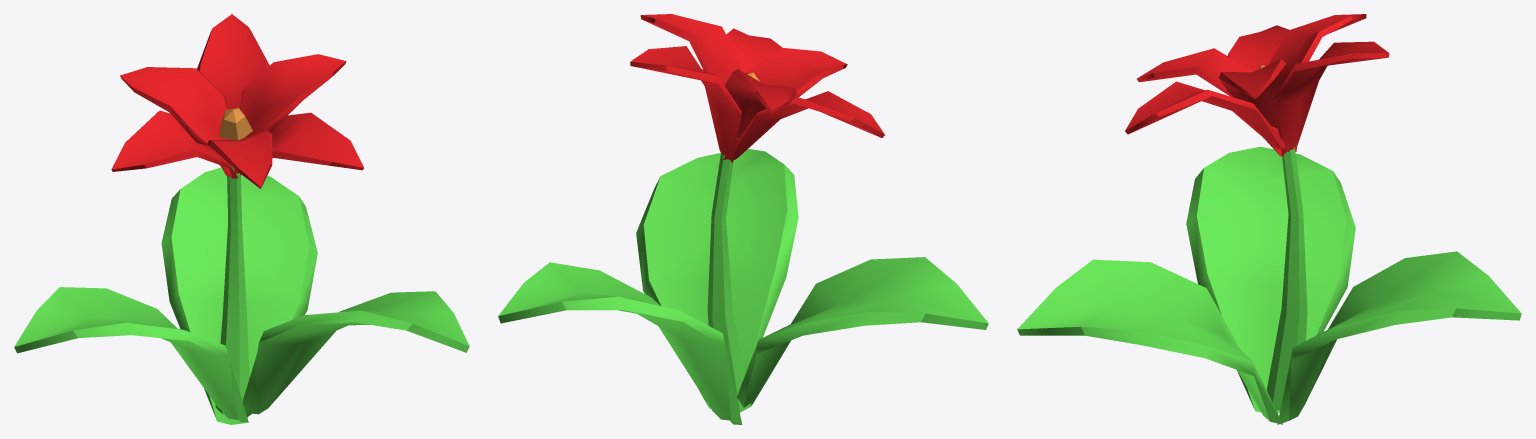
File: flower.fbx
3 views of the same model, side by side, from view 1: azimuth 30°, elevation 25°; view 2: azimuth 150°, elevation 25°; view 3: azimuth 270°, elevation 25° (orthographic). The views are drawn at different scales.
Parts seen in each view (by area): view 1: pCube5.002, pCube7.001, pCube6.002, pCube8, pCube6.003, pCylinder1, pCube8.001, pCube9.001, pCube6.004, pCube9, pSphere1; view 2: pCube6.002, pCube7.001, pCube5.002, pCylinder1, pCube8.001, pCube6.003, pCube9.001, pCube9, pCube8, pCube6.004; view 3: pCube7.001, pCube6.002, pCube5.002, pCylinder1, pCube8.001, pCube6.004, pCube6.003, pCube9, pCube8, pCube9.001.
Part boxes in pixels (bbox=[...]): pCube5.002: bbox=[161, 167, 317, 424]; pCube7.001: bbox=[14, 287, 248, 422]; pCube6.002: bbox=[242, 291, 469, 416]; pCube8: bbox=[120, 67, 229, 145]; pCube6.003: bbox=[240, 54, 346, 137]; pCylinder1: bbox=[215, 165, 249, 414]; pCube8.001: bbox=[197, 14, 269, 175]; pCube9.001: bbox=[111, 110, 238, 178]; pCube6.004: bbox=[234, 112, 363, 173]; pCube9: bbox=[206, 129, 272, 188]; pSphere1: bbox=[219, 108, 252, 140]; pCube6.002: bbox=[636, 148, 798, 408]; pCube7.001: bbox=[736, 257, 988, 407]; pCube5.002: bbox=[498, 262, 742, 424]; pCylinder1: bbox=[707, 152, 751, 412]; pCube8.001: bbox=[630, 46, 741, 162]; pCube6.003: bbox=[640, 14, 741, 85]; pCube9.001: bbox=[723, 91, 884, 159]; pCube9: bbox=[737, 47, 847, 139]; pCube8: bbox=[725, 69, 796, 137]; pCube6.004: bbox=[719, 28, 782, 148]; pCube7.001: bbox=[1186, 146, 1355, 413]; pCube6.002: bbox=[1017, 259, 1282, 424]; pCube5.002: bbox=[1277, 251, 1521, 424]; pCylinder1: bbox=[1267, 147, 1307, 410]; pCube8.001: bbox=[1274, 41, 1389, 156]; pCube6.004: bbox=[1125, 81, 1288, 148]; pCube6.003: bbox=[1218, 59, 1291, 128]; pCube9: bbox=[1137, 48, 1279, 133]; pCube8: bbox=[1268, 14, 1366, 133]; pCube9.001: bbox=[1227, 25, 1297, 156].
Bounding box in the file's own units: 2.87 × 2.7 × 3.13.
